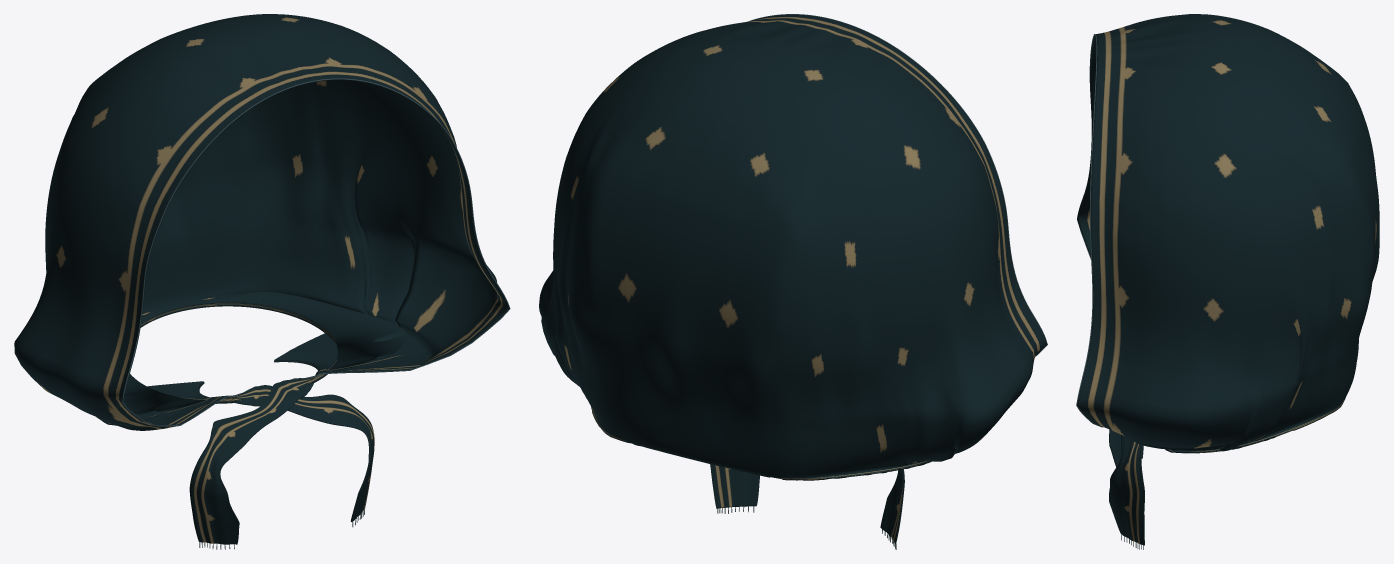
The model's file is Feminine-box-braids-jersey-pashmina249-headgear.glb.
The picture shows the model from 3 angles, left to right: view 1: azimuth 30°, elevation 25°; view 2: azimuth 150°, elevation 25°; view 3: azimuth 270°, elevation 25°; orthographic projection. The views are drawn at different scales.
Parts seen in each view (by area): view 1: 226 headgear / Headwear / continuous woven pashmina239, 226 headgear / Headwear / face edge239; view 2: 226 headgear / Headwear / continuous woven pashmina239, 226 headgear / Headwear / face edge239; view 3: 226 headgear / Headwear / continuous woven pashmina239, 226 headgear / Headwear / face edge239.
Part boxes in pixels (x1,y1,x2,y2): 226 headgear / Headwear / continuous woven pashmina239: (14, 14, 509, 544); 226 headgear / Headwear / face edge239: (122, 78, 510, 426); 226 headgear / Headwear / continuous woven pashmina239: (539, 14, 1047, 543); 226 headgear / Headwear / face edge239: (748, 14, 1047, 356); 226 headgear / Headwear / continuous woven pashmina239: (1077, 14, 1379, 545); 226 headgear / Headwear / face edge239: (1076, 34, 1103, 427).
Bounding box in the file's own units: 1.33 × 1.38 × 0.8055.
Materials: 3 (1 with a texture image).
